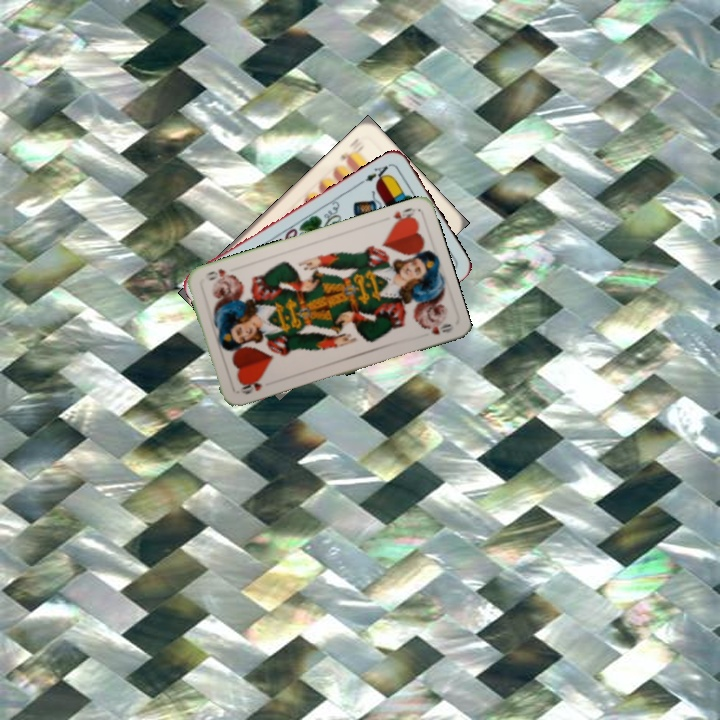E10: (335, 137, 364, 166)
EA: (357, 160, 394, 186)
HO: (387, 203, 418, 229), (236, 378, 264, 397)
